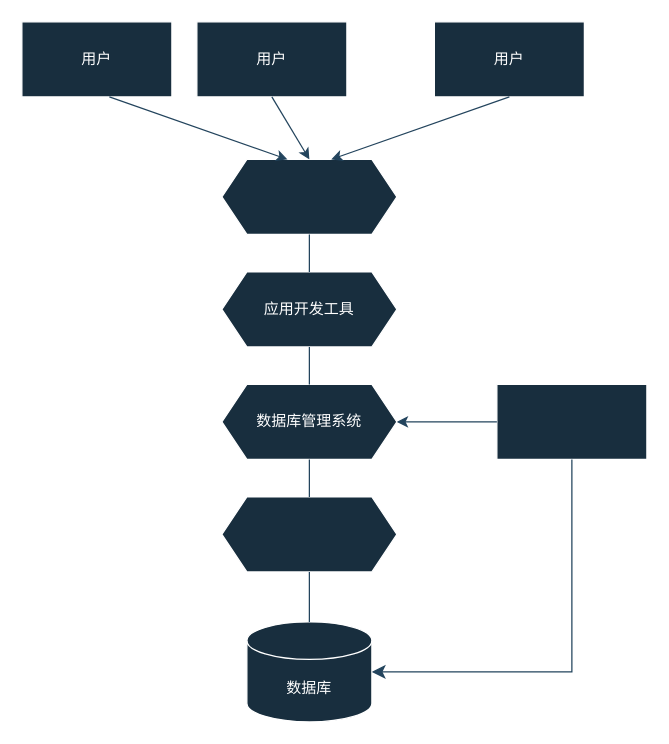
The diagram is 669 pixels wide and 744 high, and some of its shapes have lost their labels. The centre of each missing label's shape, as x and y in pixels:
应用系统: [309,196]
操作系统: [309,534]
数据库管理员: [571,421]
